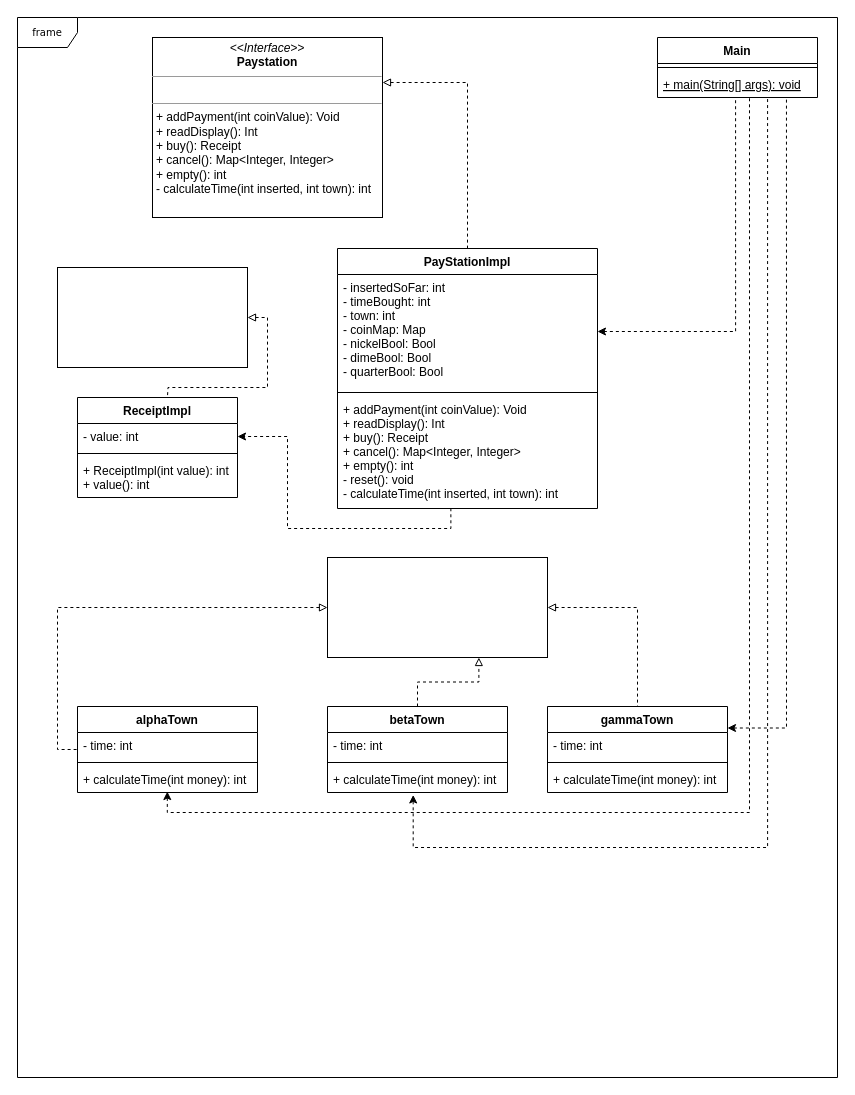
The diagram is 855 pixels wide and 1095 high, and some of its shapes have lost their labels. The centre of each missing label's shape, as x and y in pixels:
<<Interface>> RateStrategy + calculateTime(int moneyInserted): int: pixel 437 607
<<Interface>> Receipt + value(): int: pixel 152 317
